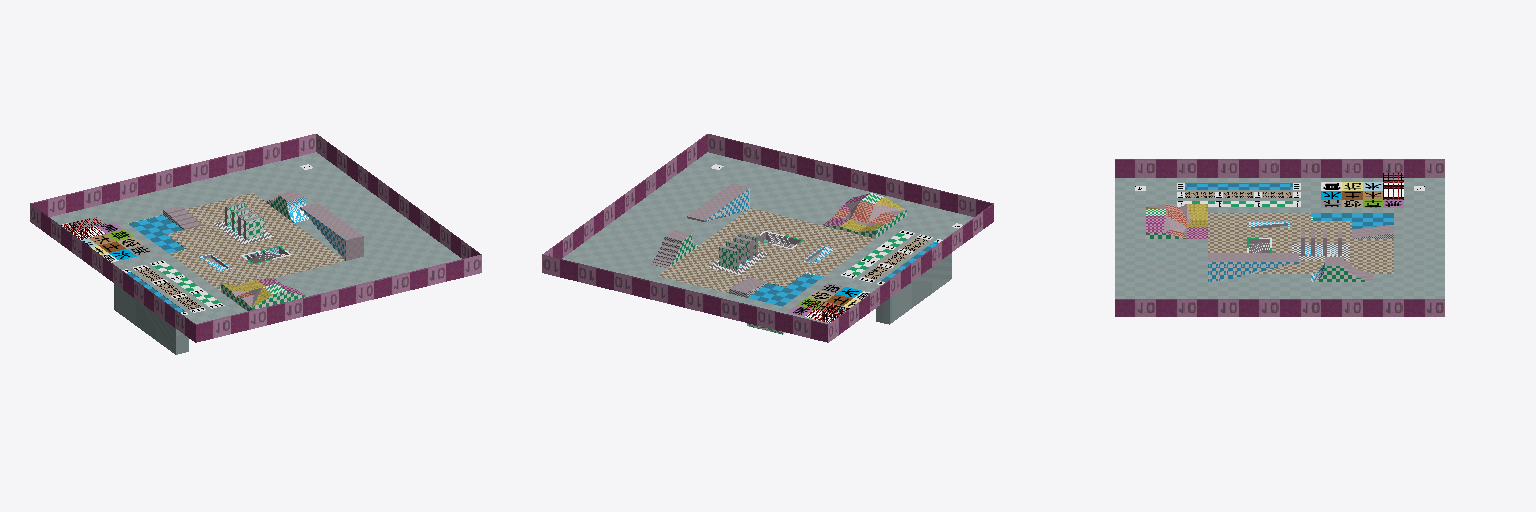
3 renders of one model, left to right at view 1: azimuth 30°, elevation 25°; view 2: azimuth 150°, elevation 25°; view 3: azimuth 270°, elevation 25°, orthographic.
Visible parts, largest first — view 1: r0; view 2: r0; view 3: r0.
Boxes of the visible parts, <box> form: r0: <box>30,134,481,354</box>; r0: <box>542,134,993,342</box>; r0: <box>1115,159,1444,316</box>.
Bounding box in the file's own units: 16 × 3.1 × 16.
Materials: 33 (33 with a texture image).